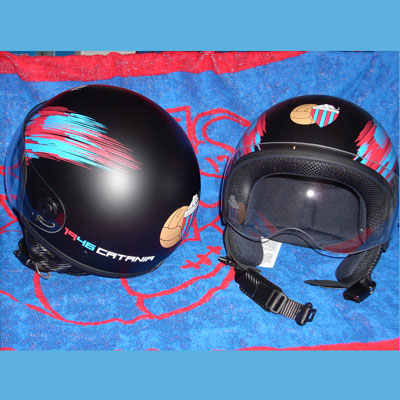helmet: (23, 93, 202, 260), (226, 111, 397, 265)
